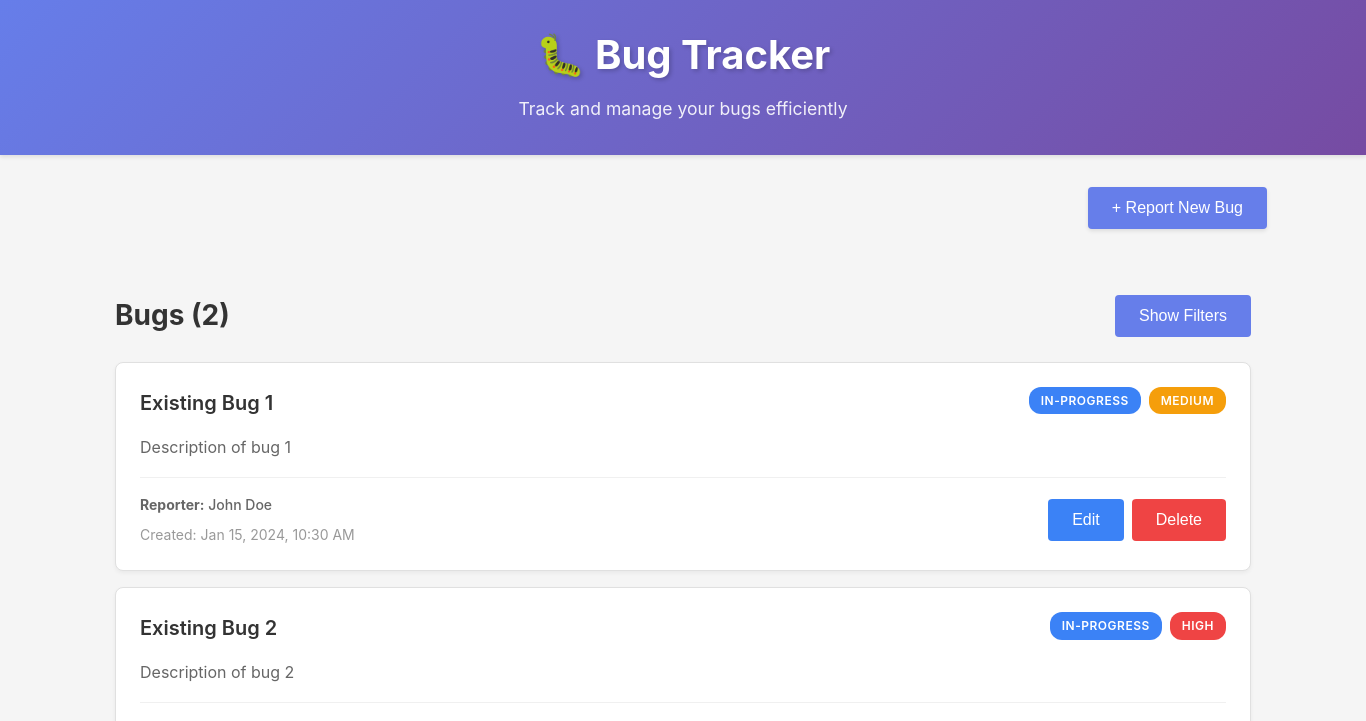
Test: Bug Workflow Integration Tests › User Flow: Update Bug Status › should update bug status through edit form
The width and height of the screenshot is (1366, 721).
expect the heading "Bugs (2)" is shown: met, box 115,293 -> 230,338
// Find and click edit button for first bug
Click the button "Edit" in the row of "Jan 15, 2024, 10:30 AM". click: {"x": 1086, "y": 520}
box: 1048,499 -> 1124,541
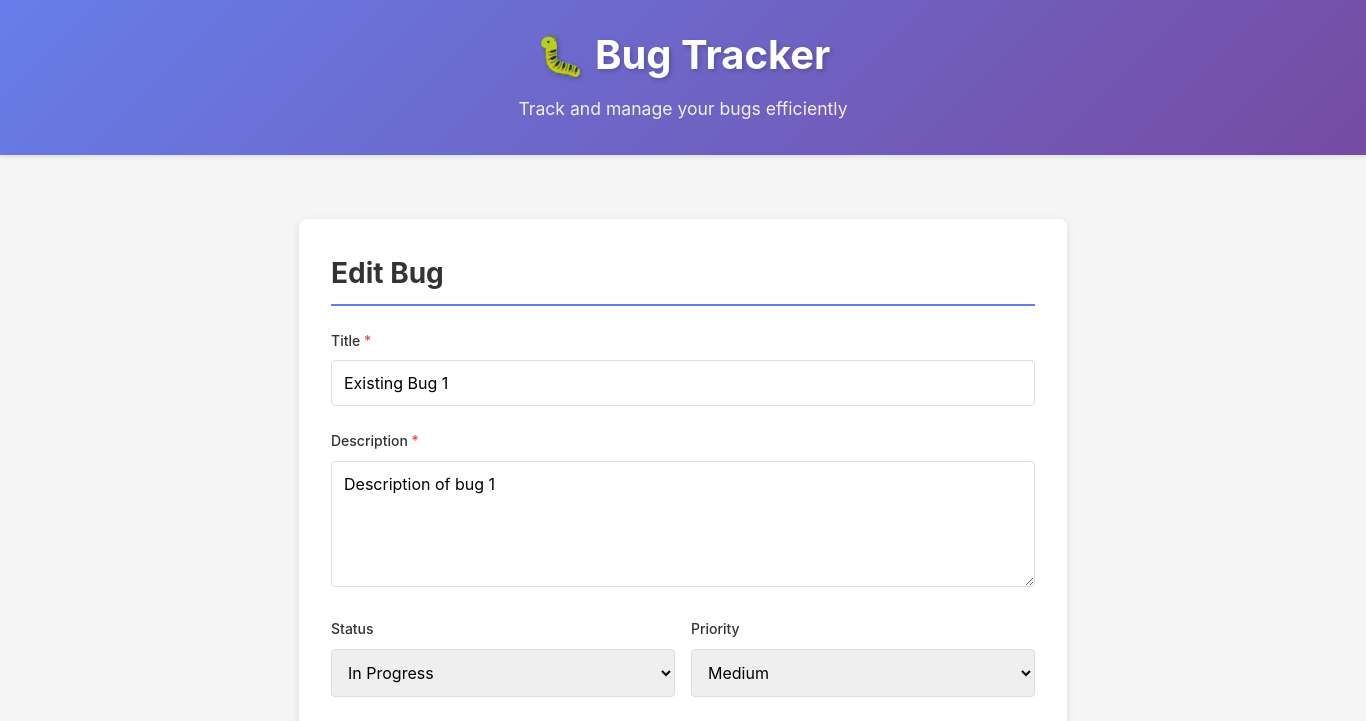
expect the heading "Edit Bug" is shown: met, box 331,251 -> 1035,306
expect the field showing "Existing Bug 1" is shown: met, box 331,360 -> 1035,406
// Update status
Select "In Progress" in the dropdown labelled "Status". click: {"x": 503, "y": 673}
box: 331,649 -> 675,697
(page scrolled)
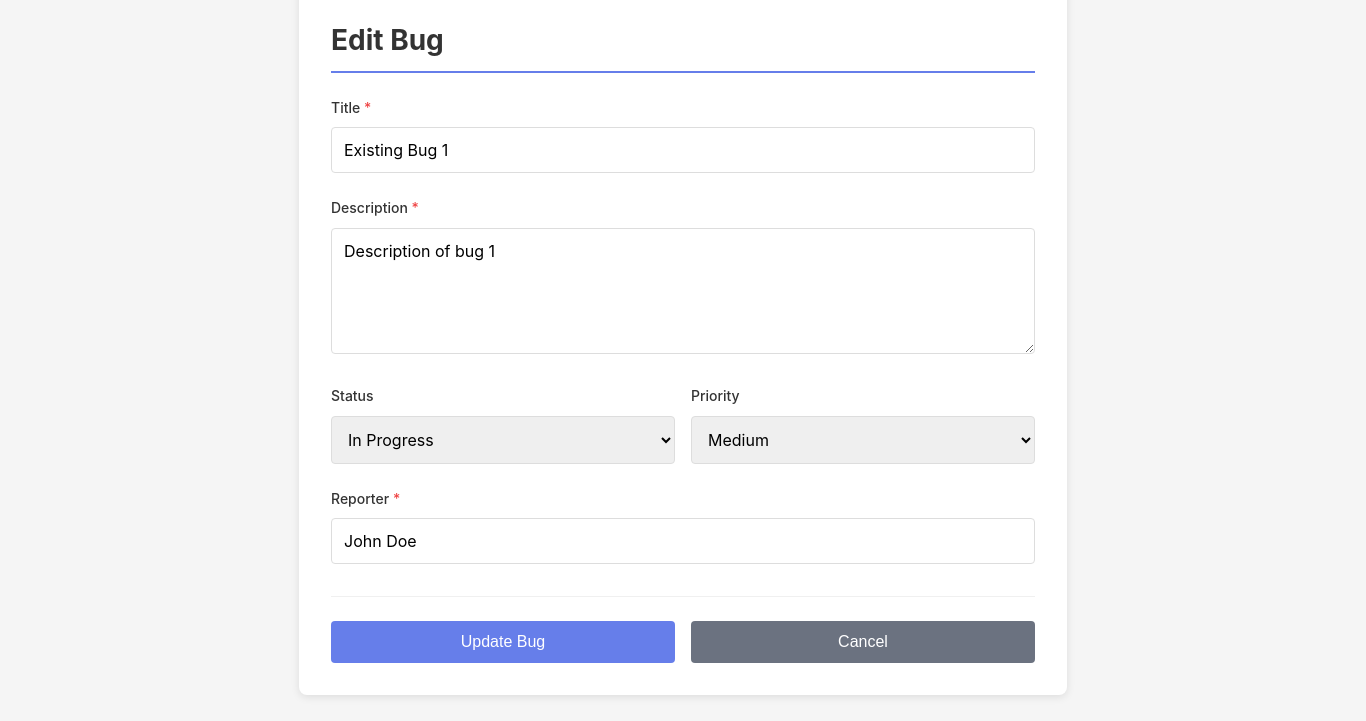
// Submit update
Click the button "Update Bug". click: {"x": 503, "y": 642}
box: 331,621 -> 675,663
(page scrolled)
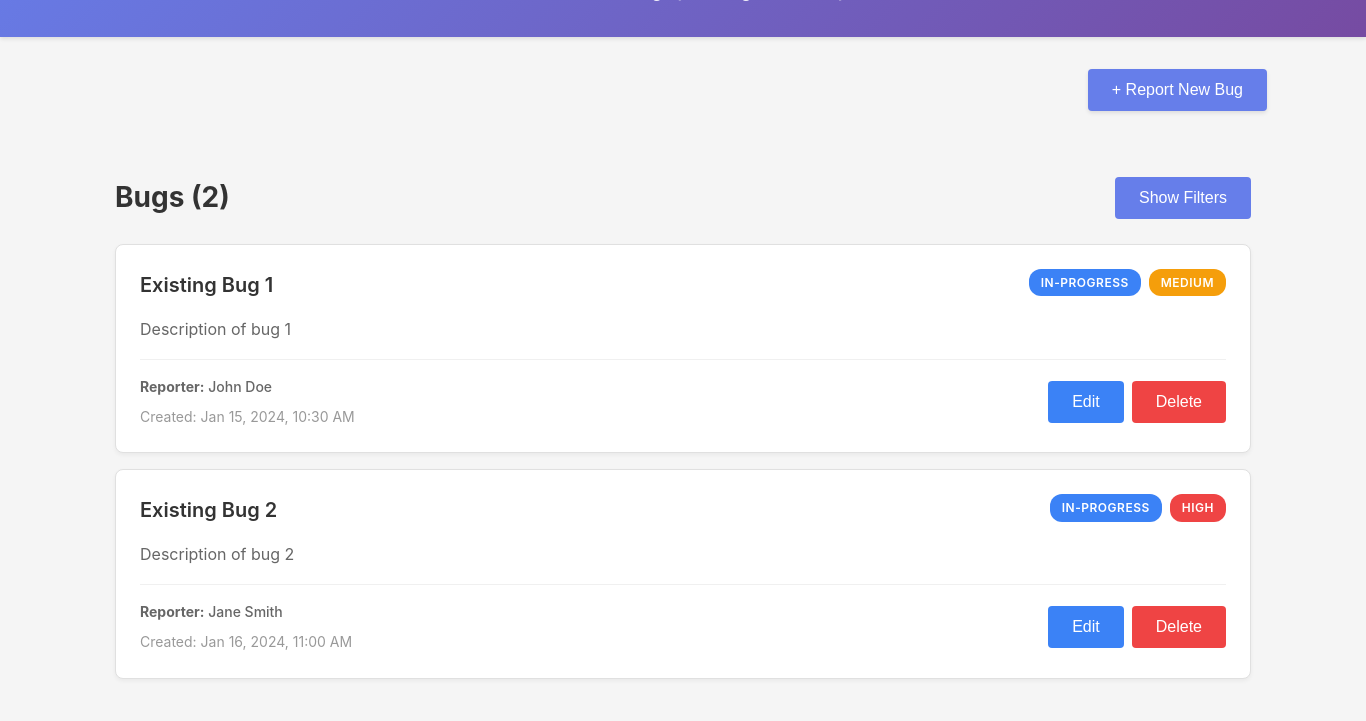
expect the heading "Bugs (2)" is shown: met, box 115,175 -> 230,220
